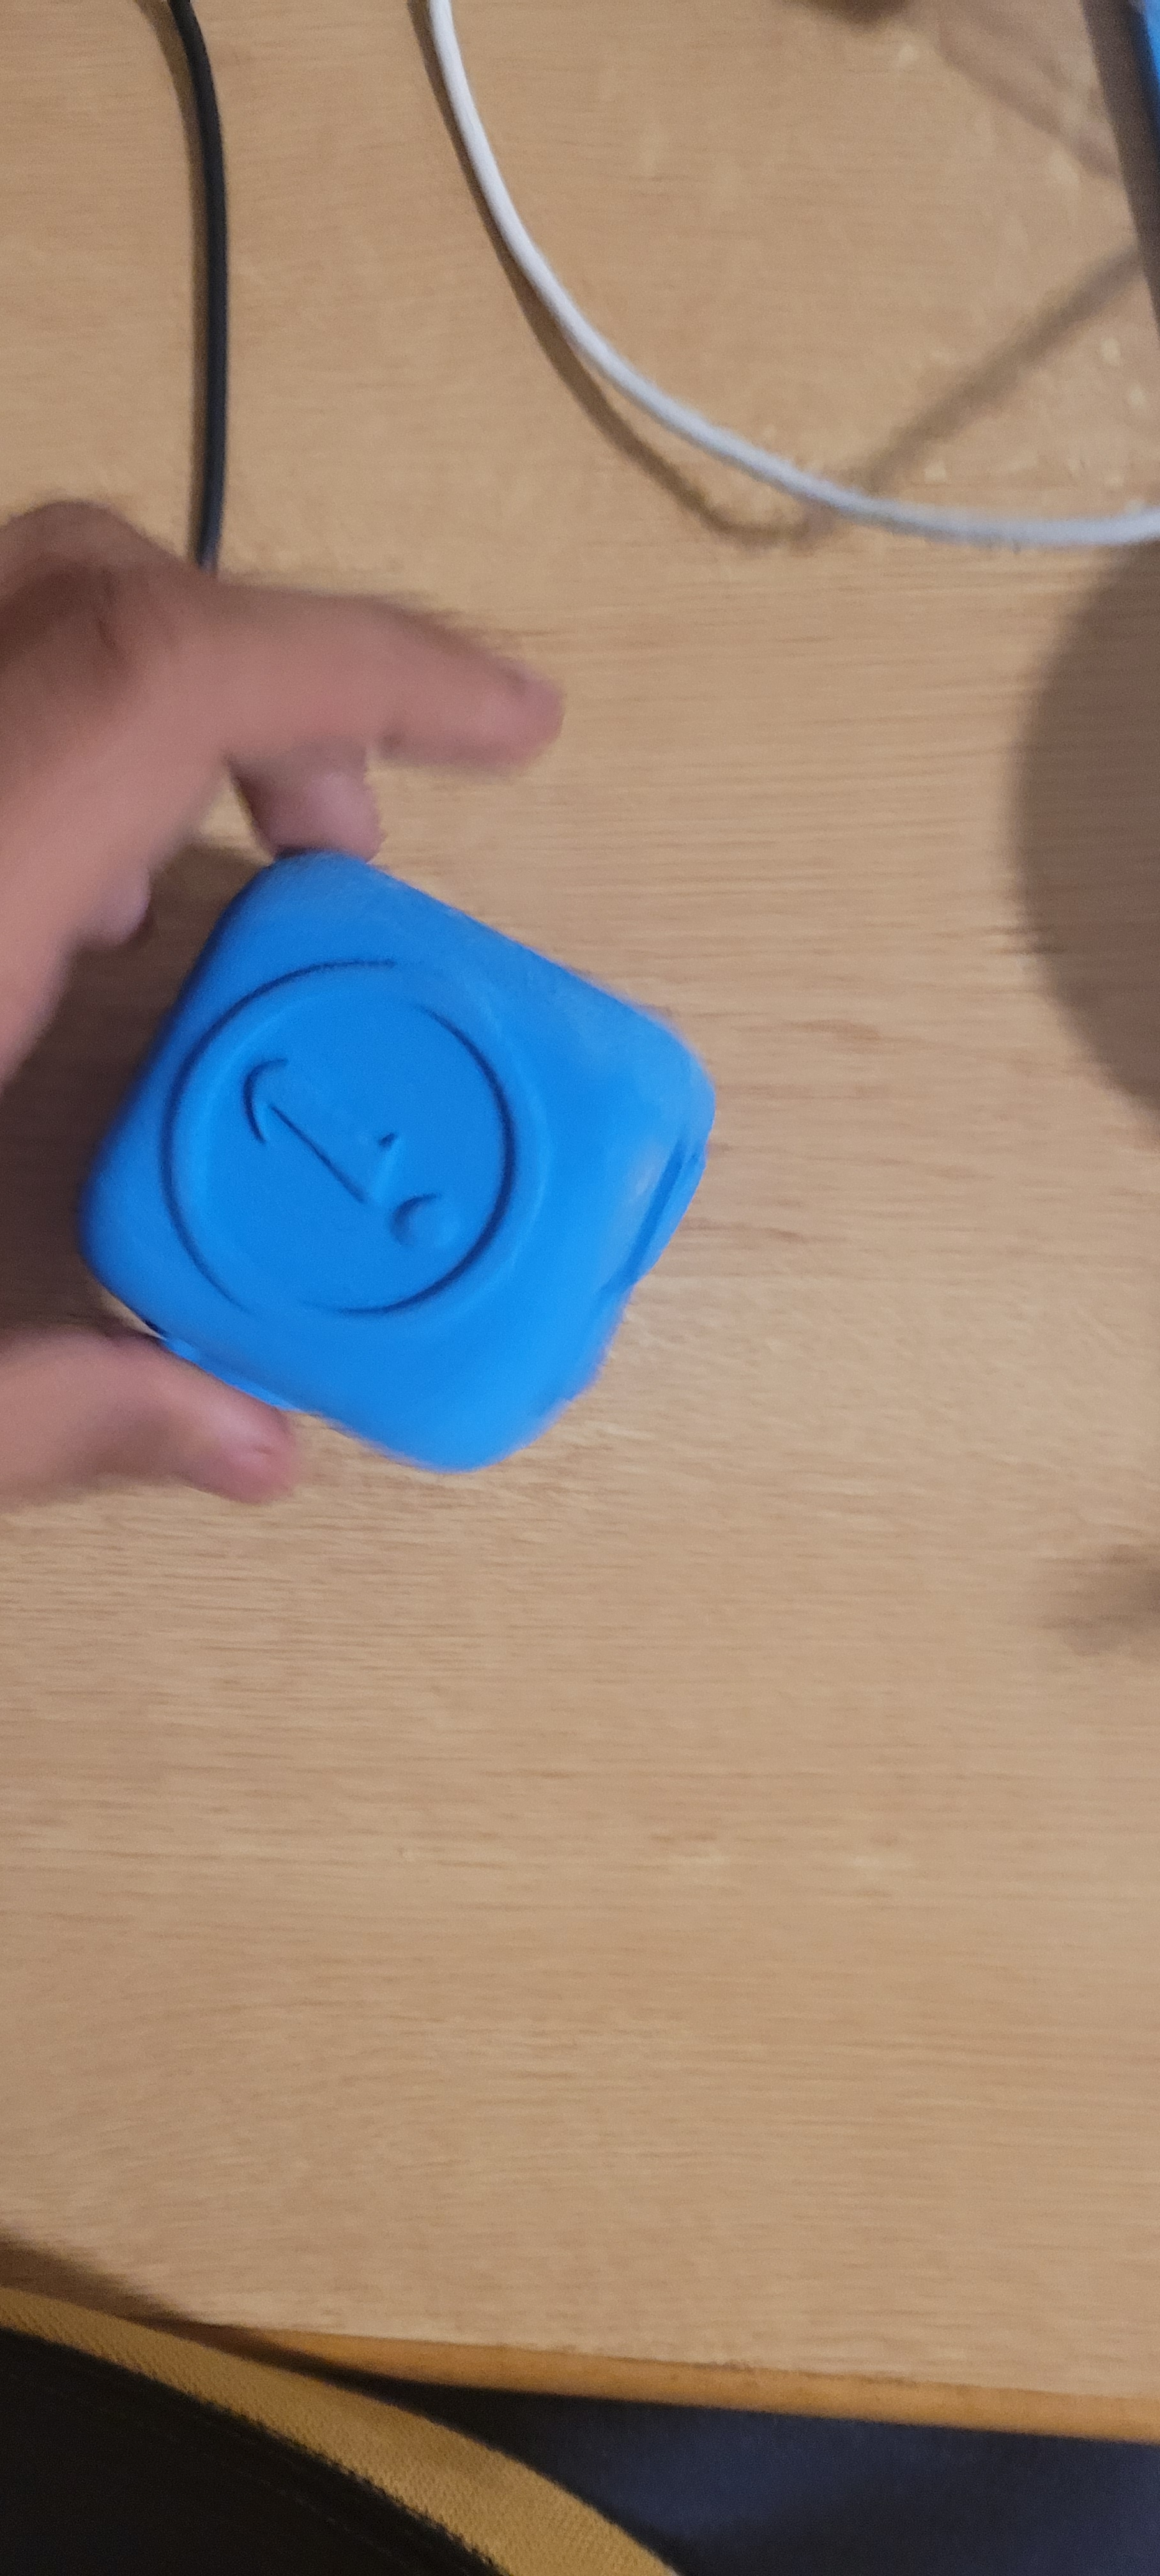Info: (148, 851, 595, 1383)
